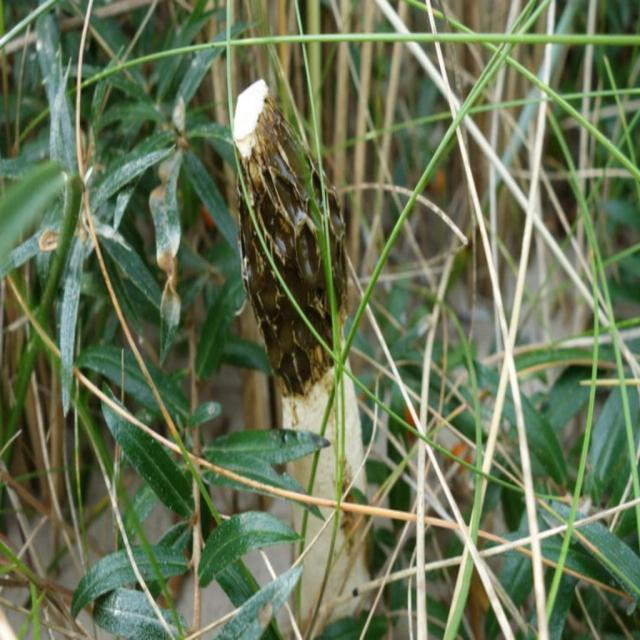Dictyophora indusiate: (228, 74, 372, 612)
